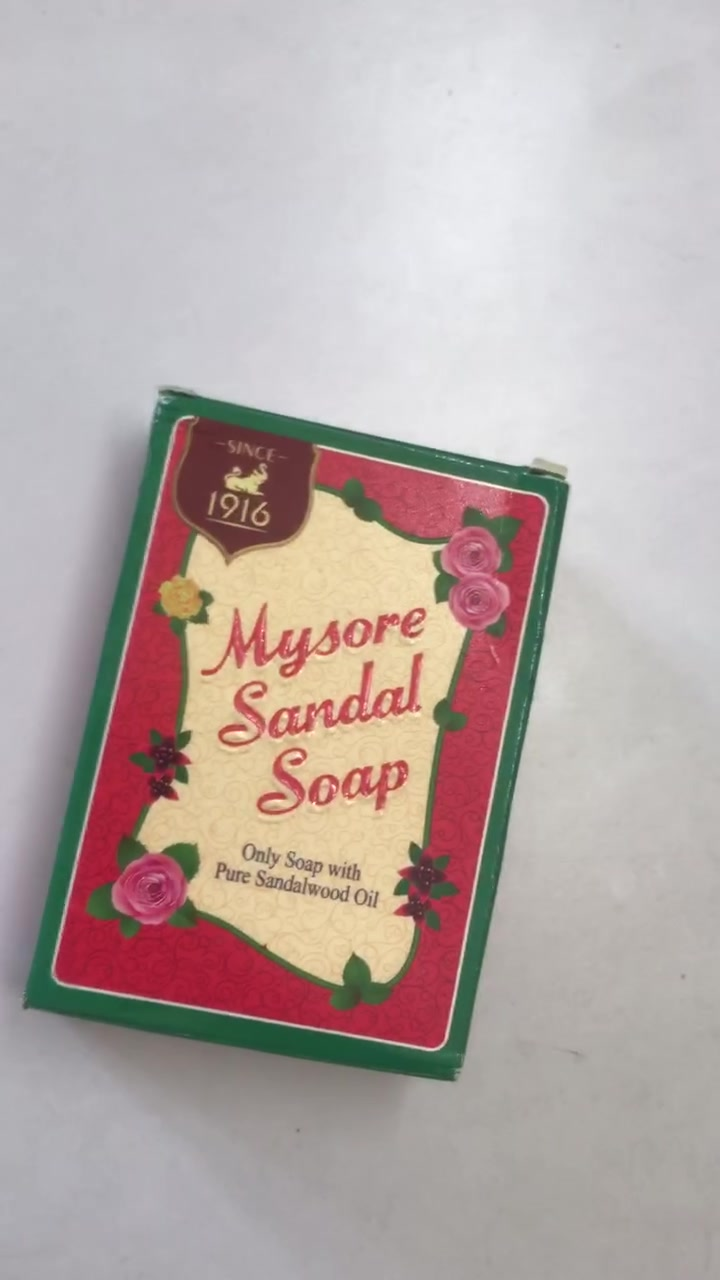mysore sandal soap: (24, 384, 563, 1084)
